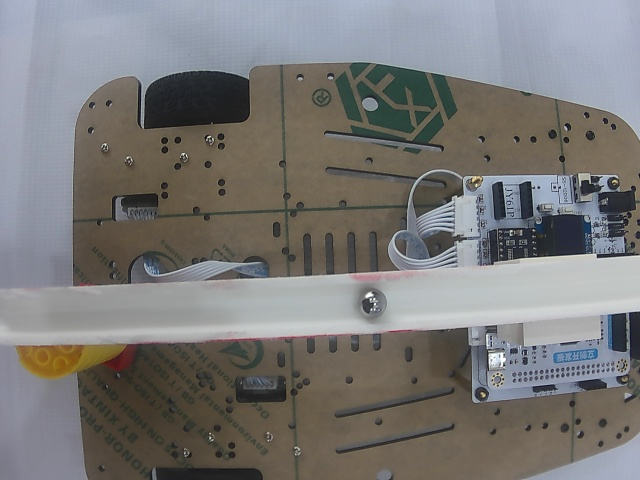steelball: (357, 288, 387, 319)
